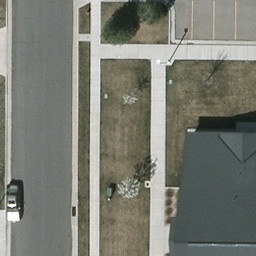car: (4, 185, 23, 225)
